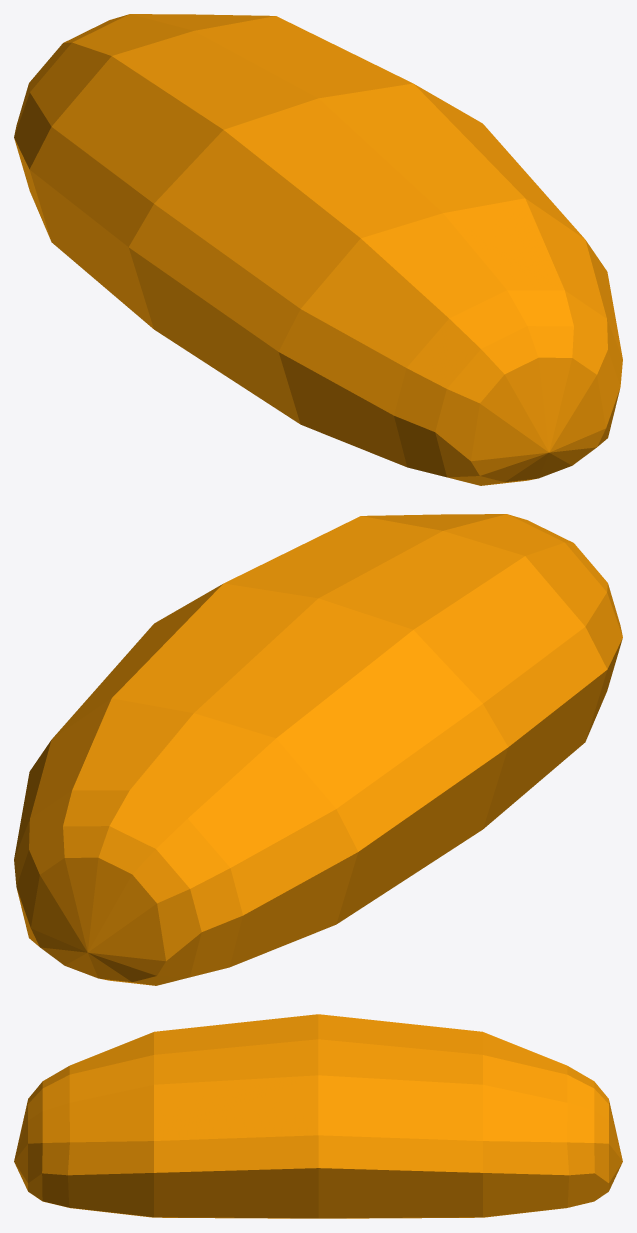
The model's file is Bread_01.fbx.
3 renders of one model, top to bottom at view 1: azimuth 30°, elevation 25°; view 2: azimuth 150°, elevation 25°; view 3: azimuth 270°, elevation 25°, orthographic. The views are drawn at different scales.
Visible parts, largest first — view 1: Bread_01; view 2: Bread_01; view 3: Bread_01.
Part boxes in pixels (bbox=[...]): Bread_01: bbox=[14, 14, 622, 485]; Bread_01: bbox=[14, 514, 622, 985]; Bread_01: bbox=[14, 1014, 622, 1218].
Size of the model in its own units: 13.54 by 8.22 by 28.5.
